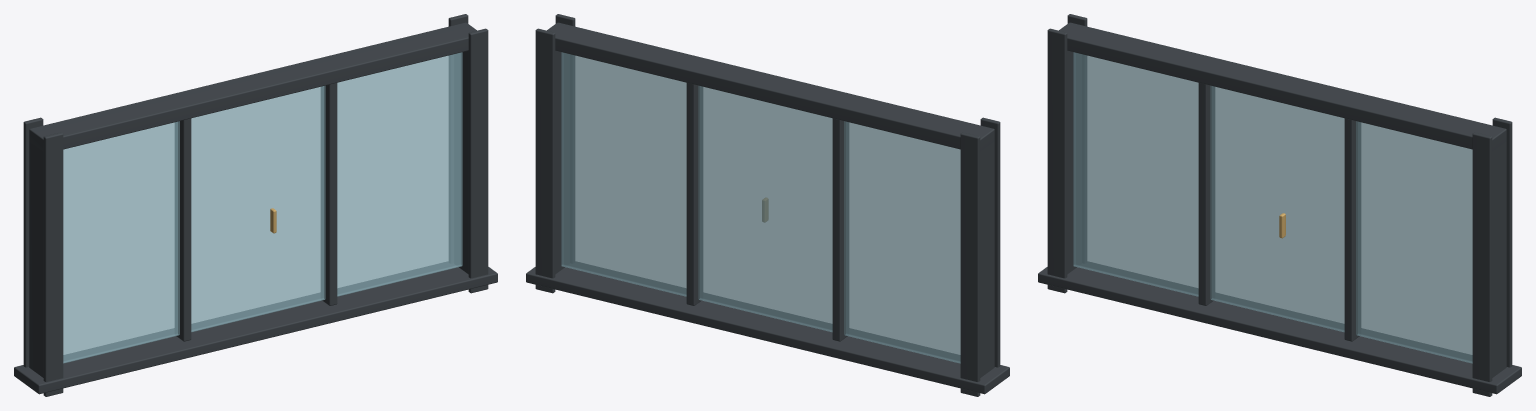
Rendered from window-triptych.glb.
3 views of the same model, side by side, from view 1: azimuth 30°, elevation 25°; view 2: azimuth 150°, elevation 25°; view 3: azimuth 330°, elevation 25° (orthographic).
Parts seen in each view (by area): view 1: Glazing.008, Sill.008, Lintel.018, Architrave.072, Architrave.074, Mullion.006, Mullion.007, Jamb.036, Jamb.037, Architrave.073, Architrave.075; view 2: Glazing.008, Sill.008, Lintel.018, Architrave.073, Architrave.075, Mullion.006, Mullion.007, Jamb.036, Jamb.037, Architrave.072, Architrave.074; view 3: Glazing.008, Sill.008, Lintel.018, Architrave.074, Architrave.072, Mullion.007, Mullion.006, Jamb.037, Jamb.036, Architrave.075, Architrave.073.
Part boxes in pixels (<box>): Glazing.008: <box>63,52,462,363</box>; Sill.008: <box>14,262,497,394</box>; Lintel.018: <box>29,22,476,151</box>; Architrave.072: <box>43,132,63,396</box>; Architrave.074: <box>468,28,488,293</box>; Mullion.006: <box>175,118,191,341</box>; Mullion.007: <box>321,83,337,305</box>; Jamb.036: <box>29,129,43,377</box>; Jamb.037: <box>454,50,468,274</box>; Architrave.073: <box>23,117,43,367</box>; Architrave.075: <box>448,14,468,263</box>; Glazing.008: <box>561,52,960,363</box>; Sill.008: <box>526,262,1009,394</box>; Lintel.018: <box>547,22,994,151</box>; Architrave.073: <box>960,132,980,396</box>; Architrave.075: <box>535,28,555,293</box>; Mullion.006: <box>832,118,848,341</box>; Mullion.007: <box>686,83,702,305</box>; Jamb.036: <box>980,130,994,377</box>; Jamb.037: <box>555,50,569,274</box>; Architrave.072: <box>980,117,1000,367</box>; Architrave.074: <box>555,14,575,263</box>; Glazing.008: <box>1073,52,1472,363</box>; Sill.008: <box>1038,262,1521,394</box>; Lintel.018: <box>1059,22,1506,151</box>; Architrave.074: <box>1472,132,1492,396</box>; Architrave.072: <box>1047,28,1067,293</box>; Mullion.007: <box>1344,118,1360,341</box>; Mullion.006: <box>1198,83,1214,305</box>; Jamb.037: <box>1492,130,1506,377</box>; Jamb.036: <box>1067,50,1081,274</box>; Architrave.075: <box>1492,117,1512,367</box>; Architrave.073: <box>1067,14,1087,263</box>.
Bounding box in the file's own units: 2.52 × 1.36 × 0.24.
